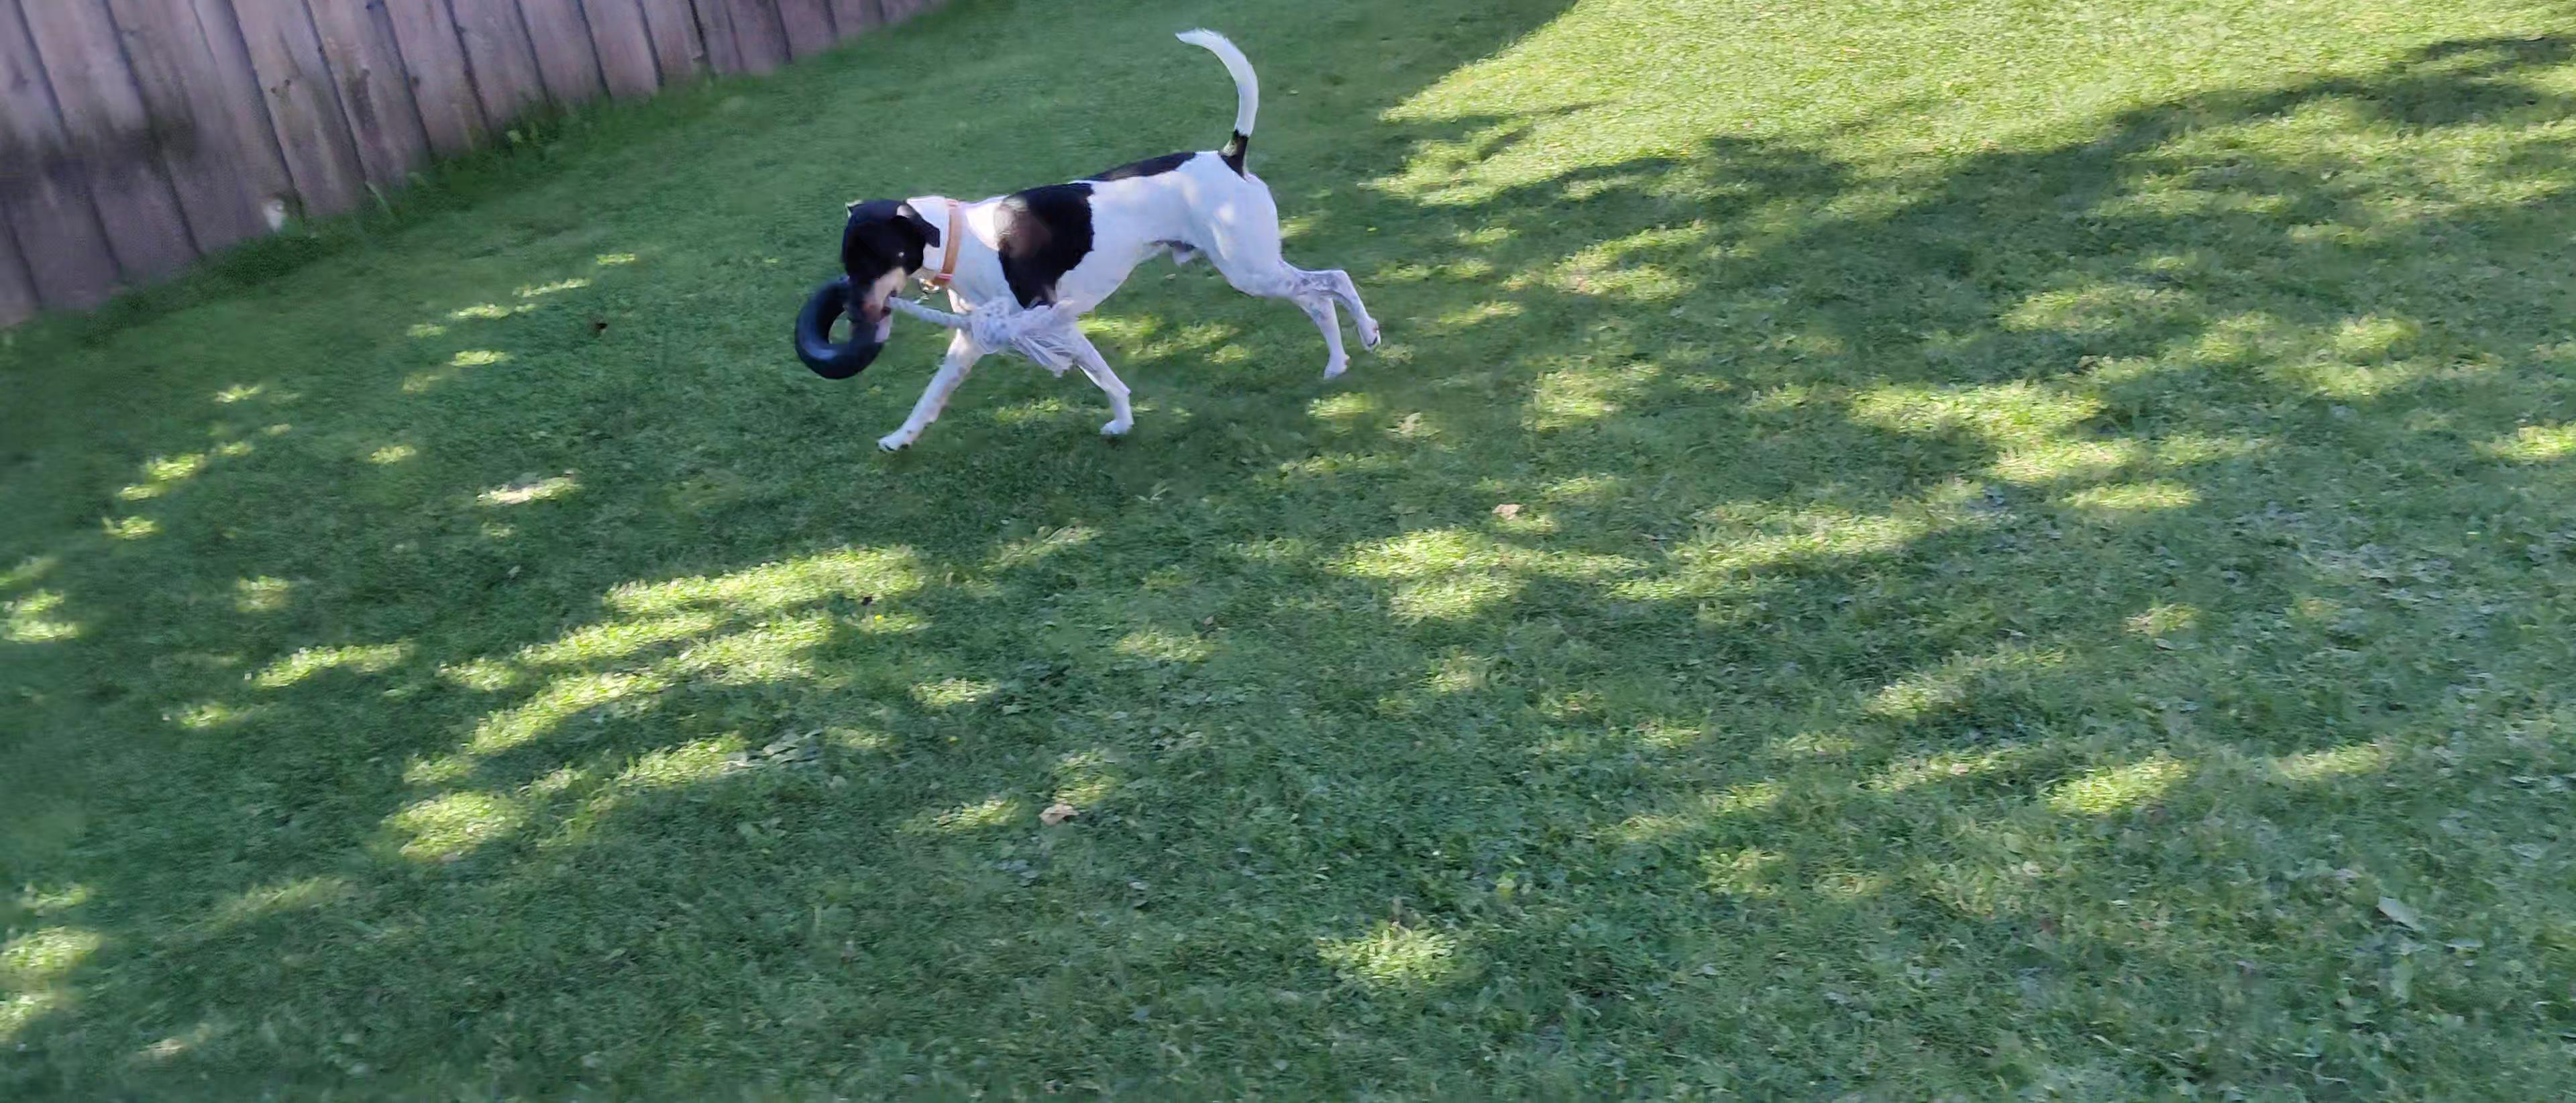Dog: (835, 30, 1390, 455)
